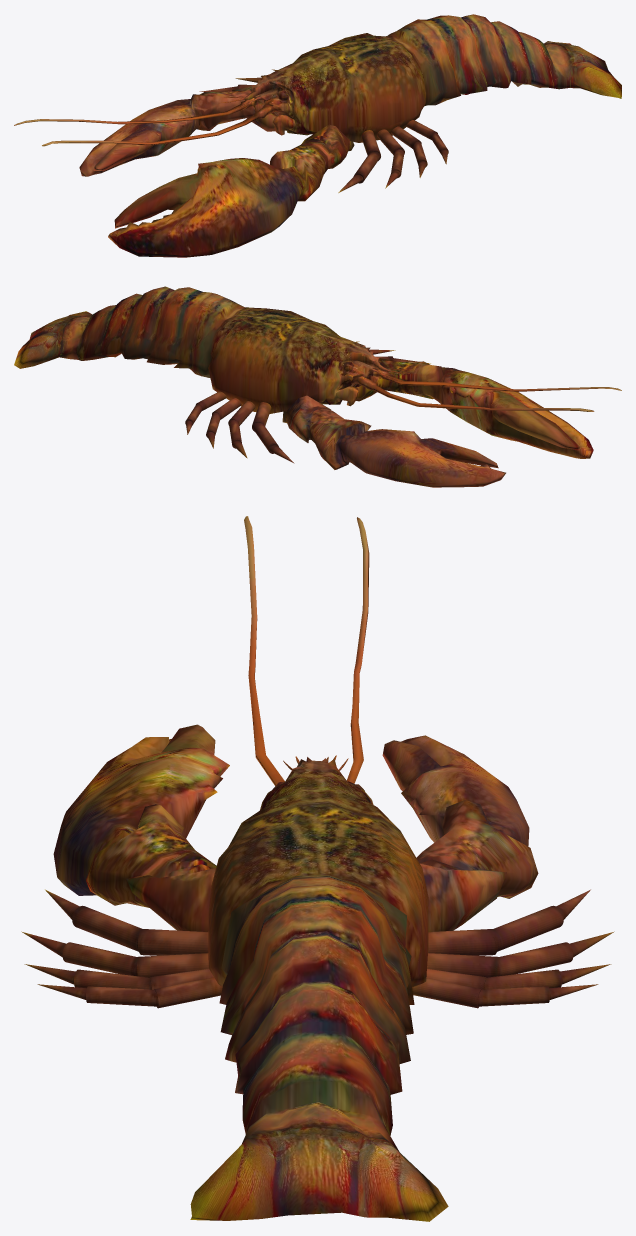
File: lobster.glb
3 views of the same model, one above another, from view 1: azimuth 30°, elevation 25°; view 2: azimuth 150°, elevation 25°; view 3: azimuth 270°, elevation 25° (orthographic). The views are drawn at different scales.
Parts seen in each view (by area): view 1: lobster; view 2: lobster; view 3: lobster.
Part boxes in pixels (left/top/right/bottom): lobster: left=14, top=14, right=621, bottom=257; lobster: left=14, top=286, right=621, bottom=487; lobster: left=21, top=516, right=614, bottom=1221.
Bounding box in the file's own units: 6.66 × 1.32 × 2.99.
1 material, 1 textured.
